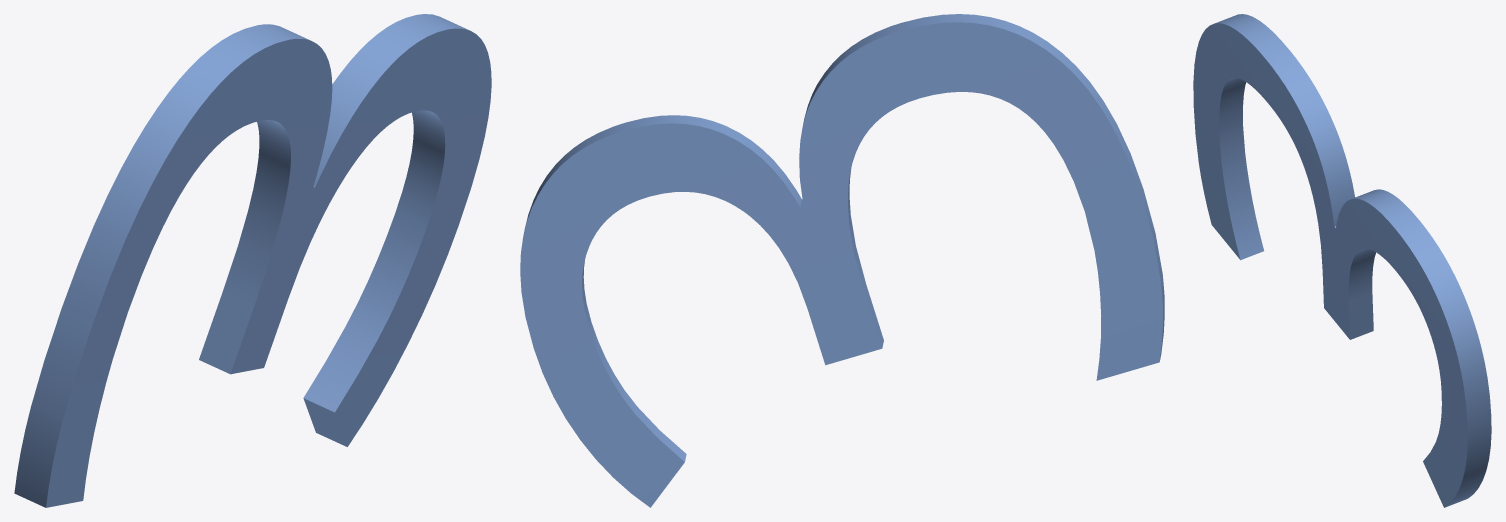
File: New_Number_3.gltf
3 renders of one model, left to right at view 1: azimuth 30°, elevation 25°; view 2: azimuth 150°, elevation 25°; view 3: azimuth 270°, elevation 25°, orthographic. The views are drawn at different scales.
Visible parts, largest first — view 1: Part 552; view 2: Part 552; view 3: Part 552.
Boxes of the visible parts, x1,y1,x2,y2 form: Part 552: [14, 14, 491, 507]; Part 552: [520, 14, 1164, 507]; Part 552: [1193, 14, 1491, 507].
Size of the model in its own units: 0.00485 by 0.00411 by 0.00281.
